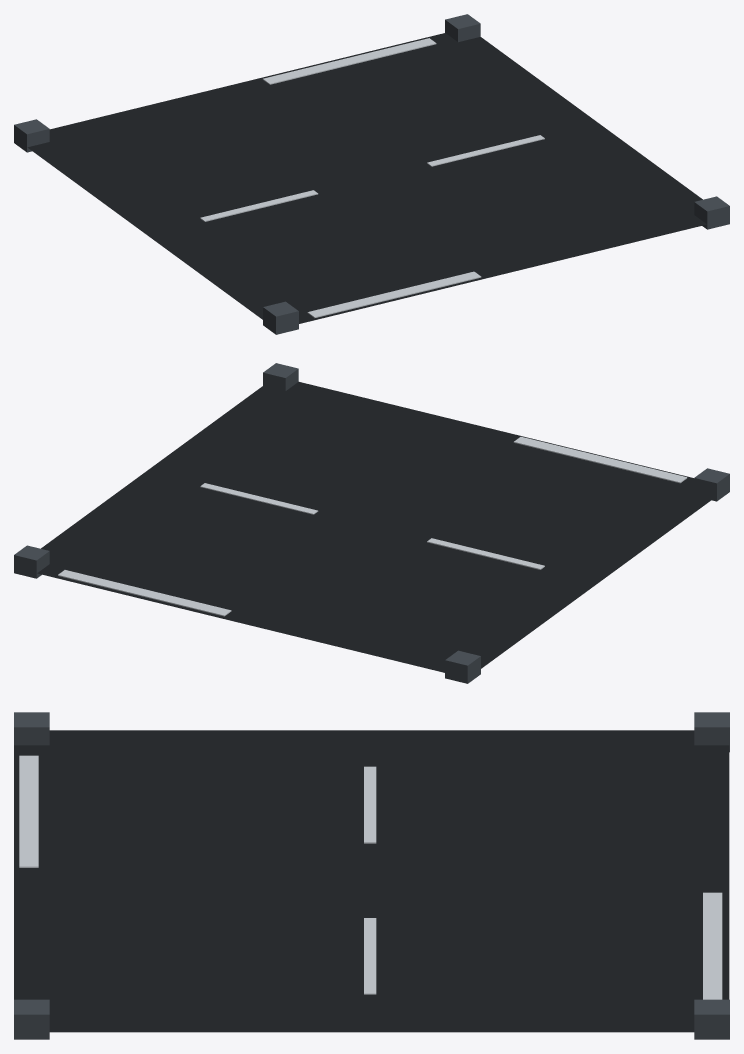
File: Road_Tile_Cross-Junction.fbx
3 renders of one model, top to bottom at view 1: azimuth 30°, elevation 25°; view 2: azimuth 150°, elevation 25°; view 3: azimuth 270°, elevation 25°, orthographic. The views are drawn at different scales.
Parts seen in each view (by area): view 1: Painted Line.001; view 2: Painted Line.001; view 3: Painted Line.001.
Boxes of the visible parts, left/top/right/bottom form: Painted Line.001: left=14, top=14, right=729, bottom=334; Painted Line.001: left=14, top=363, right=729, bottom=683; Painted Line.001: left=14, top=712, right=729, bottom=1039.
Bounding box in the file's own units: 2002 × 76.83 × 2003.
